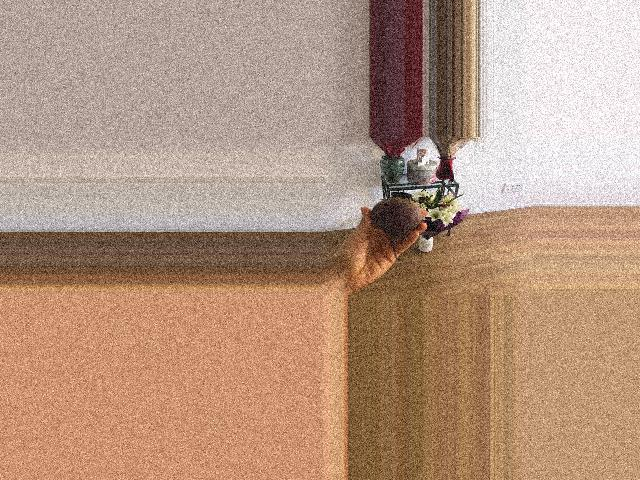beet: (371, 192, 423, 261)
